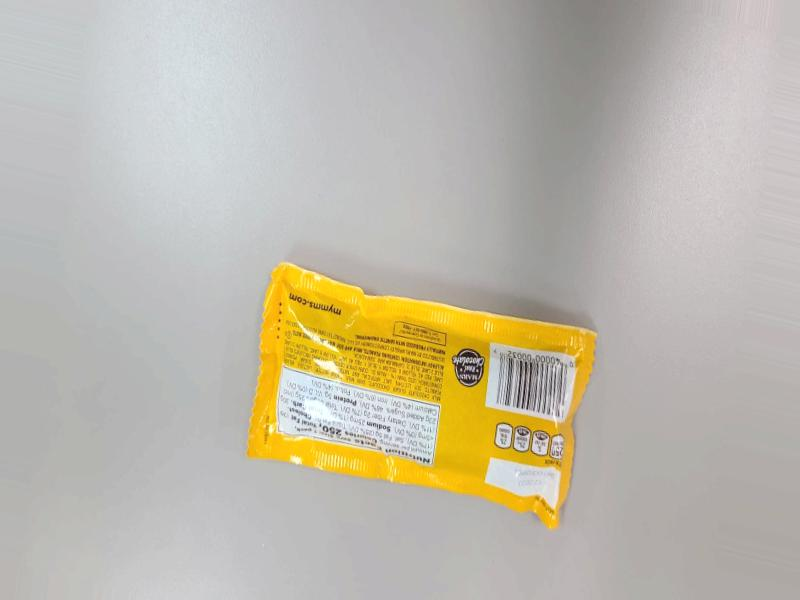m&m: (248, 264, 571, 539)
